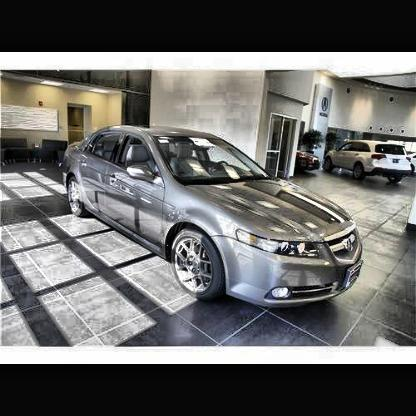Acura TL Type-S 2008: (61, 125, 367, 308)
